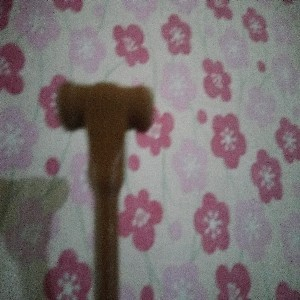palu: (57, 80, 155, 300)
